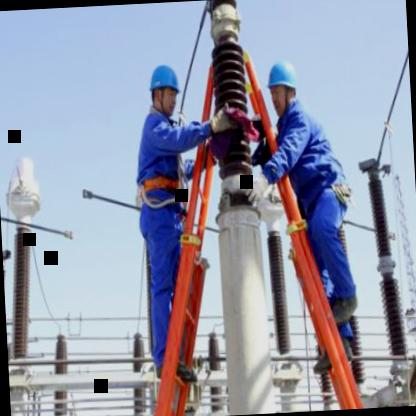helmet: (144, 58, 182, 118), (264, 57, 300, 113)
